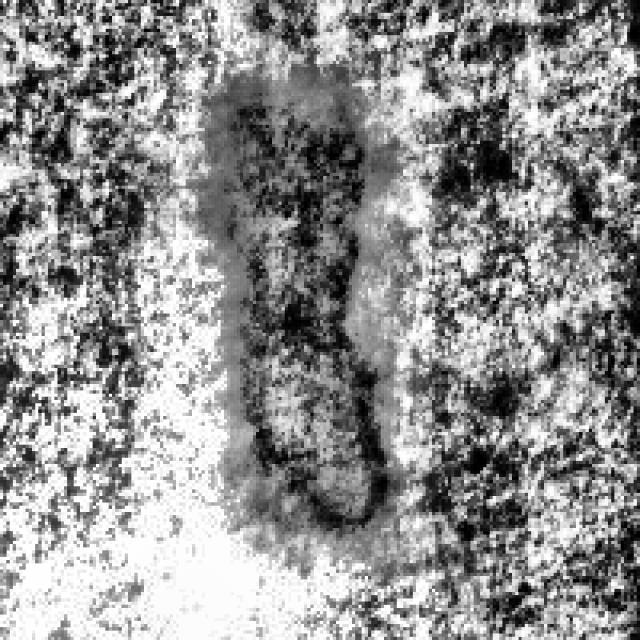Scratches: (208, 74, 384, 528)
